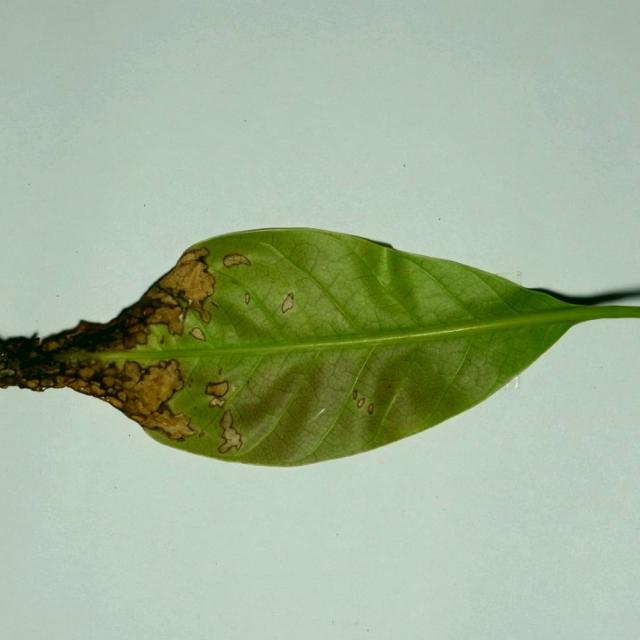Anthracnose: (436, 336, 507, 412), (374, 362, 443, 437), (233, 372, 308, 441), (391, 266, 462, 318), (162, 255, 215, 304), (182, 365, 237, 411), (289, 242, 347, 277), (330, 264, 386, 297), (270, 288, 311, 328), (180, 308, 212, 344), (133, 368, 166, 400), (305, 314, 348, 337), (144, 320, 176, 350), (217, 422, 242, 454), (118, 360, 144, 384)
Mango: (0, 228, 639, 470)
